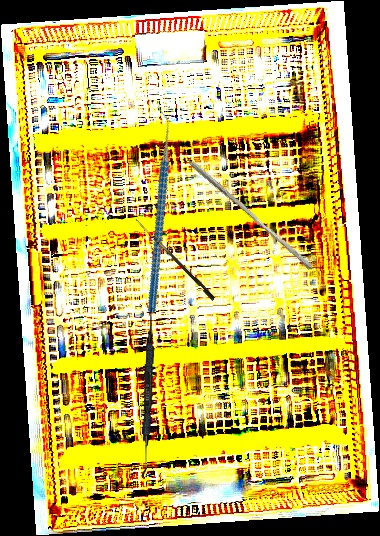Chopper: (79, 103, 233, 315)
Hook Surgical: (132, 219, 217, 301)
Pusher: (184, 159, 317, 271)
Spatula Surgical: (141, 307, 155, 479)
